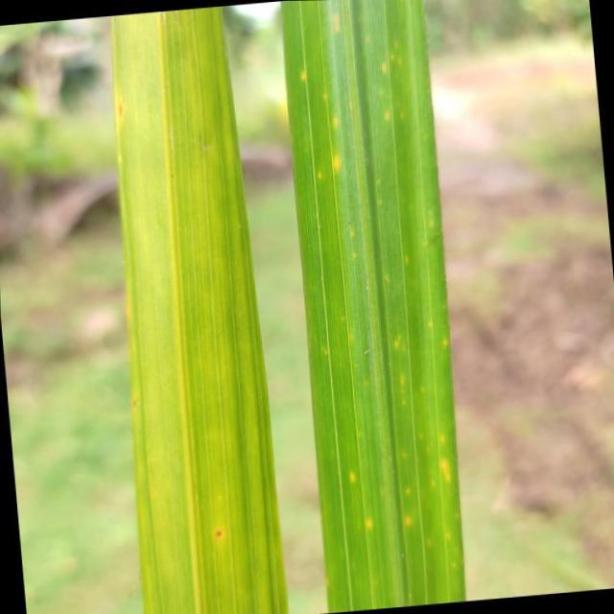nitrogen: (281, 0, 467, 614), (110, 5, 285, 614)
